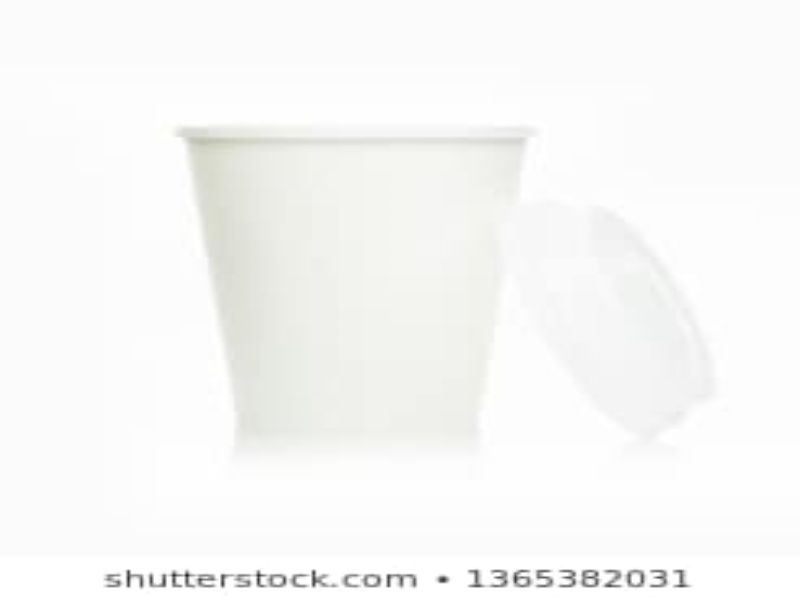coffee-lid: (526, 192, 718, 445)
plastic-cup: (167, 110, 542, 459)
